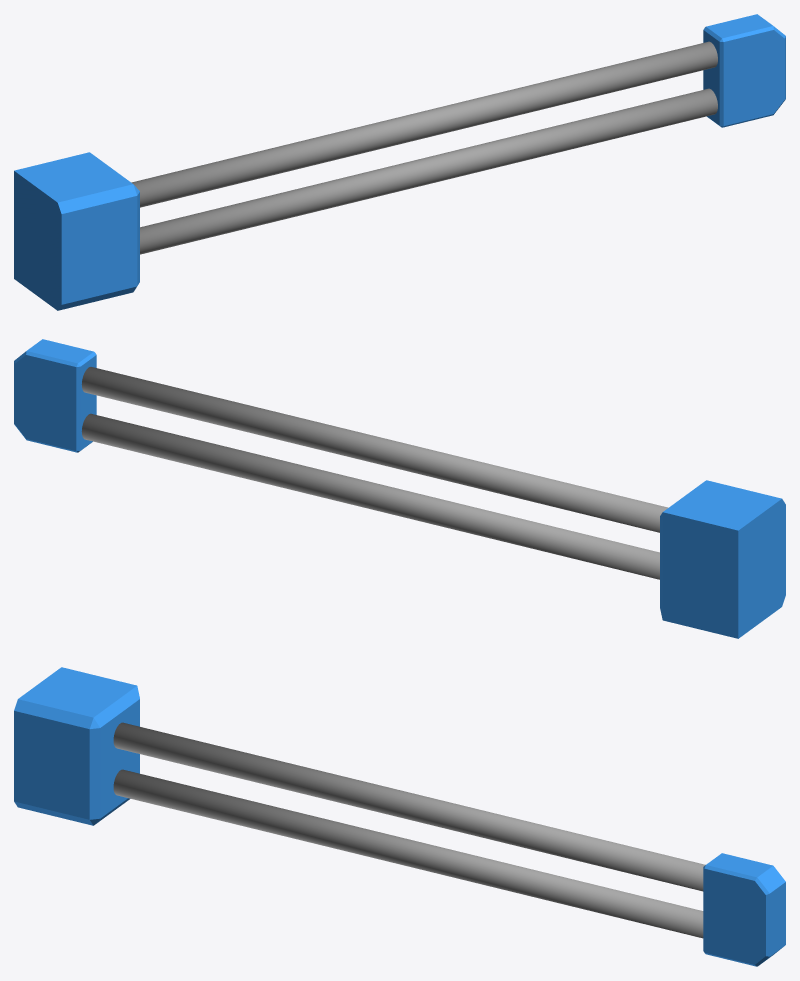
File: printerxaxis.glb
3 renders of one model, top to bottom at view 1: azimuth 30°, elevation 25°; view 2: azimuth 150°, elevation 25°; view 3: azimuth 330°, elevation 25°, orthographic.
Visible parts, largest first — view 1: XAxisRods, XAxisEnds; view 2: XAxisRods, XAxisEnds; view 3: XAxisRods, XAxisEnds.
Boxes of the visible parts, left/top/right/bottom form: XAxisRods: left=131, top=41, right=717, bottom=254; XAxisEnds: left=14, top=14, right=785, bottom=310; XAxisRods: left=81, top=367, right=668, bottom=579; XAxisEnds: left=14, top=339, right=785, bottom=638; XAxisRods: left=113, top=722, right=705, bottom=938; XAxisEnds: left=14, top=667, right=785, bottom=966.
Bounding box in the file's own units: 0.9176 × 0.1283 × 0.1022.
